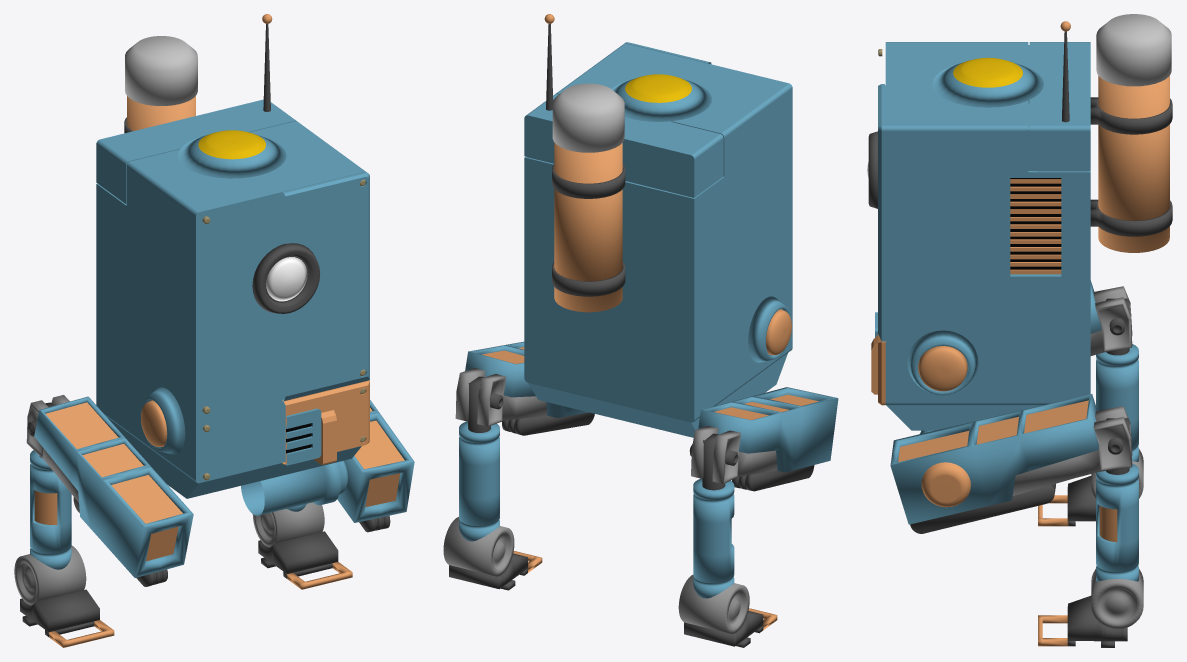
The model's file is shopkeeper.glb.
3 views of the same model, side by side, from view 1: azimuth 30°, elevation 25°; view 2: azimuth 150°, elevation 25°; view 3: azimuth 270°, elevation 25° (orthographic). The views are drawn at different scales.
Visible parts, largest first — view 1: Cube, Cube.001, Cylinder.014, Cylinder.016, Cylinder.006, Cylinder.013, Cylinder.009, Cylinder.005, Cylinder.020, Cube.002, Cylinder.011, Cylinder (+10 smaller); view 2: Cube, Cylinder.014, Cylinder.007, Cylinder.020, Cylinder.017, Cylinder.013, Cylinder.006, Cylinder.009, Cylinder.008, Cylinder.011, Cylinder.012, Cylinder.004 (+3 smaller); view 3: Cube, Cylinder.014, Cylinder.007, Cylinder.020, Cylinder.017, Cylinder.006, Cylinder.009, Cube.006, Cylinder.008, Cylinder.016, Cylinder.013, Cylinder.011 (+12 smaller).
Boxes of the visible parts, x1,y1,x2,y2 form: Cube: [96, 99, 365, 498]; Cube.001: [282, 172, 369, 400]; Cylinder.014: [34, 396, 414, 577]; Cylinder.016: [45, 402, 404, 561]; Cylinder.006: [20, 497, 390, 636]; Cylinder.013: [14, 502, 324, 605]; Cylinder.009: [125, 36, 197, 105]; Cylinder.005: [241, 461, 347, 515]; Cylinder.020: [30, 450, 306, 569]; Cube.002: [282, 380, 369, 464]; Cylinder.011: [178, 134, 286, 178]; Cylinder: [252, 243, 319, 313]; Cube: [524, 43, 792, 437]; Cylinder.014: [465, 341, 838, 472]; Cylinder.007: [554, 142, 622, 312]; Cylinder.020: [459, 421, 734, 598]; Cylinder.017: [455, 368, 777, 483]; Cylinder.013: [443, 517, 749, 633]; Cylinder.006: [449, 412, 814, 647]; Cylinder.009: [552, 83, 624, 152]; Cylinder.008: [552, 164, 625, 296]; Cylinder.011: [611, 78, 711, 121]; Cylinder.012: [625, 74, 691, 102]; Cylinder.004: [748, 296, 791, 362]; Cube: [885, 42, 1090, 430]; Cylinder.014: [890, 280, 1101, 524]; Cylinder.007: [1098, 75, 1169, 252]; Cylinder.020: [1096, 344, 1138, 581]; Cylinder.017: [1012, 286, 1132, 495]; Cylinder.006: [910, 476, 1127, 647]; Cylinder.009: [1096, 14, 1171, 86]; Cube.006: [1010, 179, 1061, 274]; Cylinder.008: [1090, 97, 1172, 236]; Cylinder.016: [898, 400, 1088, 462]; Cylinder.013: [1091, 449, 1143, 629]; Cylinder.011: [932, 62, 1043, 107].
Bounding box in the file's own units: 3.44 × 6.33 × 2.97.
